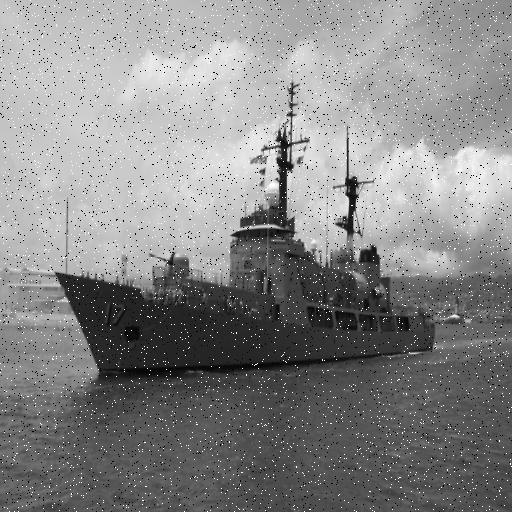Fragata: (52, 39, 439, 390)
